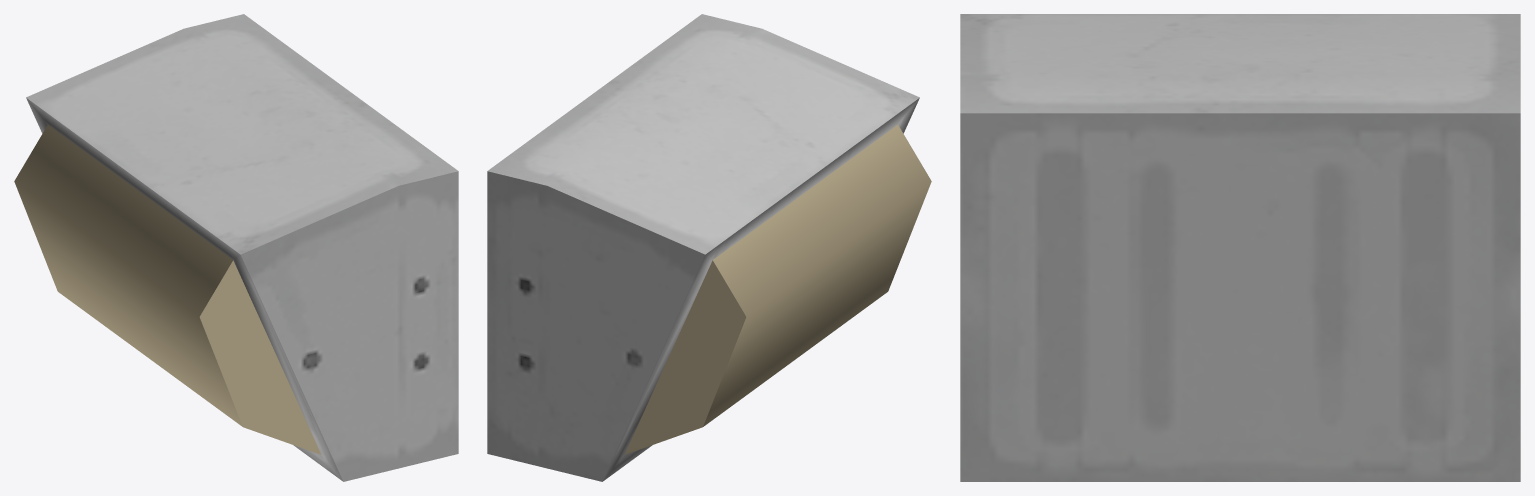
The model's file is MB_Wall_Lamp_03.fbx.
3 renders of one model, left to right at view 1: azimuth 30°, elevation 25°; view 2: azimuth 150°, elevation 25°; view 3: azimuth 270°, elevation 25°, orthographic. The views are drawn at different scales.
Visible parts, largest first — view 1: MB_Wall_Lamp_03; view 2: MB_Wall_Lamp_03; view 3: MB_Wall_Lamp_03.
Boxes of the visible parts, box(x1,y1,x2,y2) form: MB_Wall_Lamp_03: box(14, 14, 458, 481); MB_Wall_Lamp_03: box(487, 14, 931, 481); MB_Wall_Lamp_03: box(960, 14, 1520, 481).
Size of the model in its own units: 18.93 by 20.91 by 28.8.
